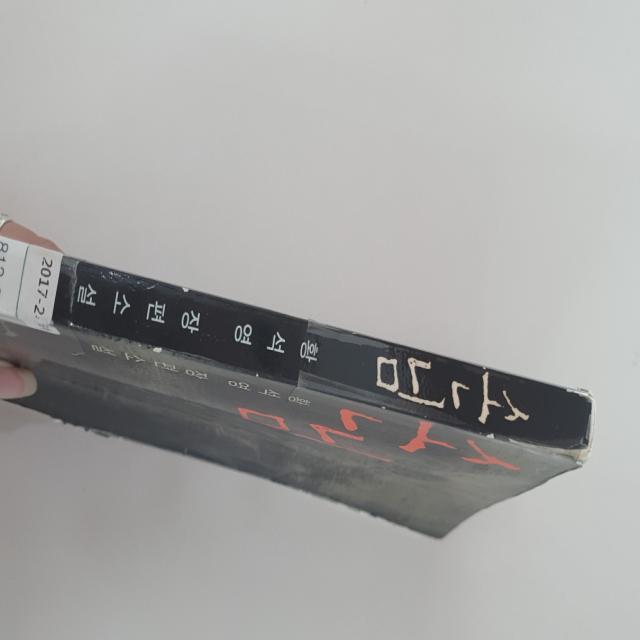Ripped: (507, 434, 593, 470), (562, 382, 600, 403)
Wornout: (582, 401, 601, 439), (473, 423, 500, 443), (175, 283, 198, 298), (148, 343, 169, 356)
